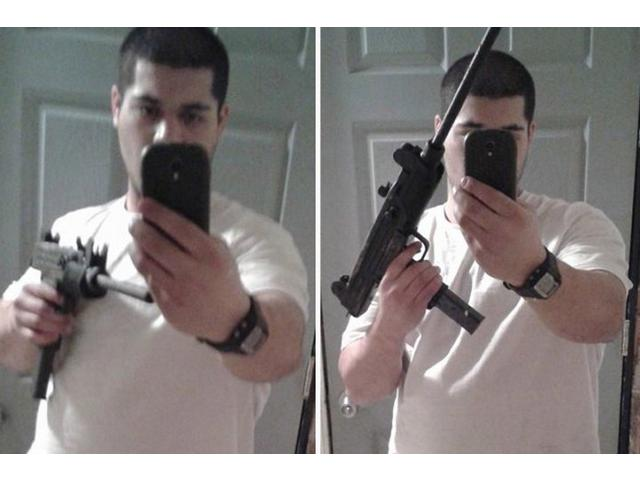pistol: (323, 139, 492, 342), (23, 235, 160, 400)
